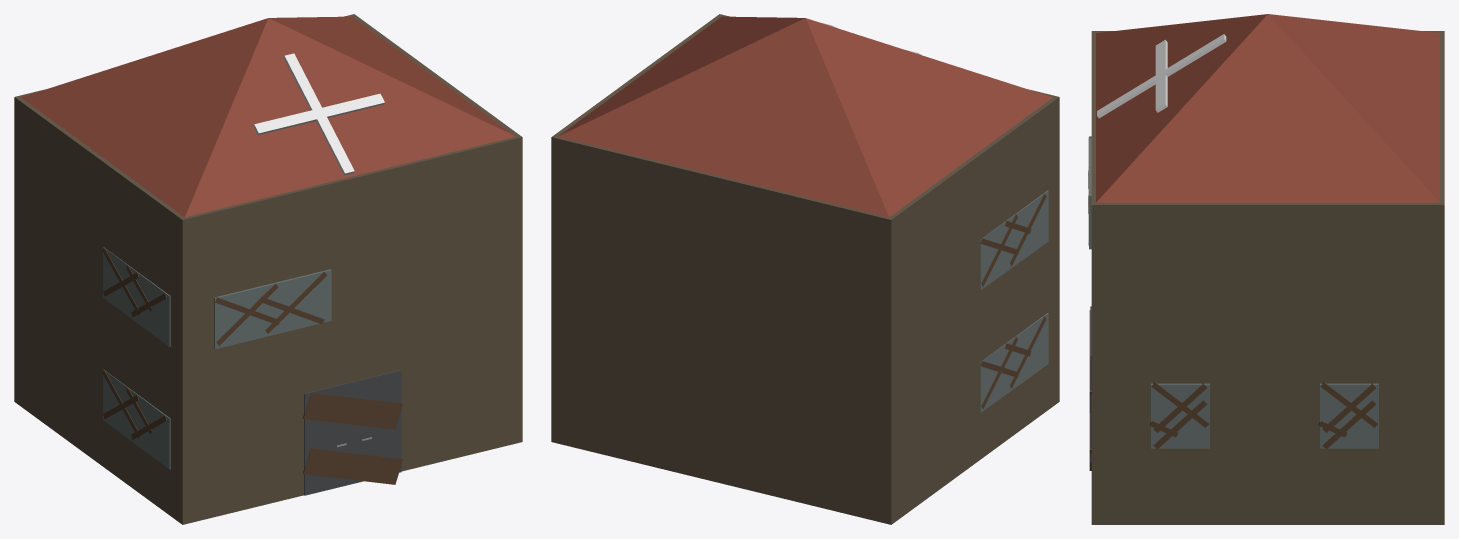
File: Ahpoteke.glb
The picture shows the model from 3 angles, left to right: view 1: azimuth 30°, elevation 25°; view 2: azimuth 150°, elevation 25°; view 3: azimuth 270°, elevation 25°; orthographic projection. The views are drawn at different scales.
Visible parts, largest first — view 1: Cube.001; view 2: Cube.001; view 3: Cube.001.
Part boxes in pixels (x1,y1,x2,y2): Cube.001: [14, 14, 522, 524]; Cube.001: [551, 14, 1059, 524]; Cube.001: [1088, 14, 1444, 524].
Bounding box in the file's own units: 7.09 × 8.17 × 6.05.
